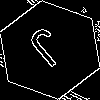J: (25, 25, 76, 77)
